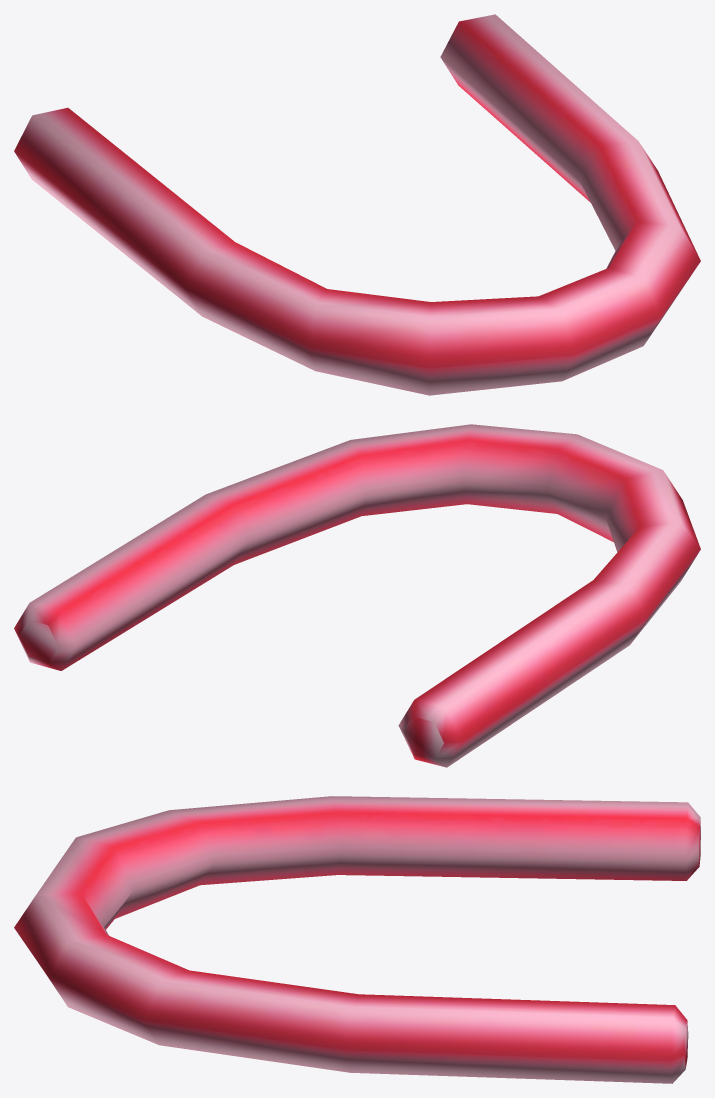
The model's file is furni_0200158.FBX.
3 views of the same model, one above another, from view 1: azimuth 30°, elevation 25°; view 2: azimuth 150°, elevation 25°; view 3: azimuth 270°, elevation 25° (orthographic). The views are drawn at different scales.
Visible parts, largest first — view 1: furni_0200155; view 2: furni_0200155; view 3: furni_0200155.
Part boxes in pixels (bbox=[...]): furni_0200155: bbox=[14, 14, 700, 395]; furni_0200155: bbox=[14, 424, 700, 767]; furni_0200155: bbox=[14, 796, 700, 1083].
Size of the model in its own units: 44.5 by 6.25 by 54.17.
Materials: 1 (1 with a texture image).
